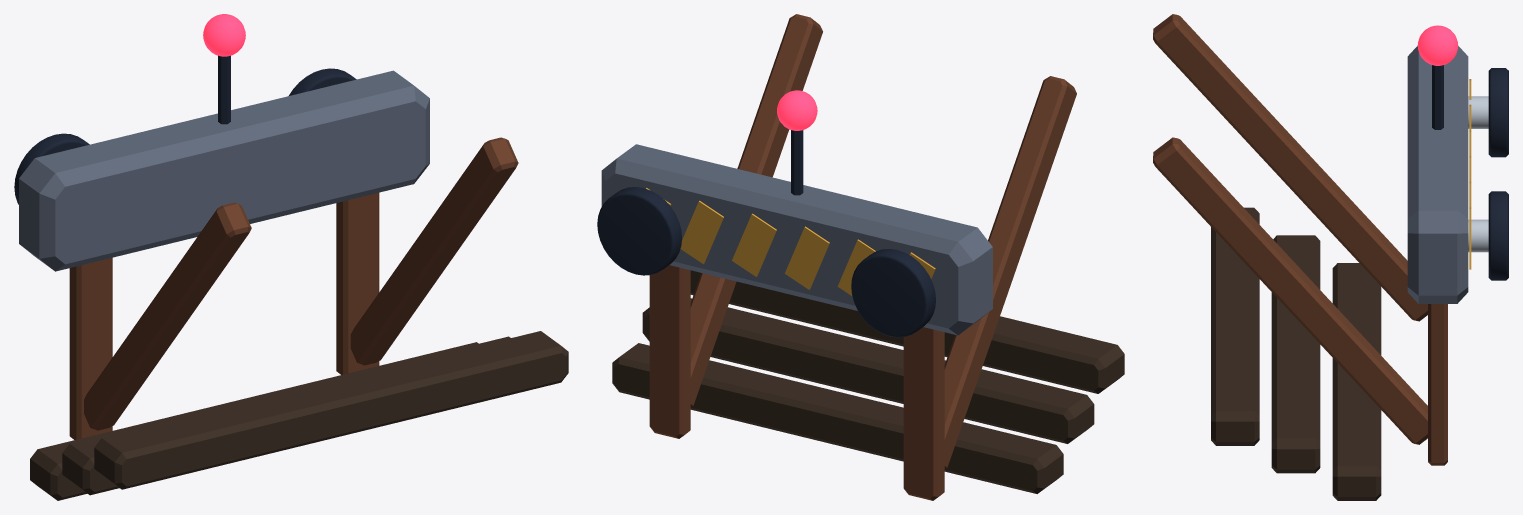
File: switchyard_dress_buffer.glb
3 views of the same model, side by side, from view 1: azimuth 30°, elevation 25°; view 2: azimuth 150°, elevation 25°; view 3: azimuth 270°, elevation 25° (orthographic). The views are drawn at different scales.
Parts seen in each view (by area): view 1: buf_beam, buf_crib2, buf_strut1, buf_strut-1, buf_post-1, buf_post1, buf_crib1, buf_crib0, buf_lamp, buf_head-1, buf_head1, buf_lamp_post; view 2: buf_beam, buf_crib0, buf_crib1, buf_strut-1, buf_crib2, buf_strut1, buf_post-1, buf_post1, buf_head1, buf_head-1, buf_hazard, buf_lamp (+1 smaller); view 3: buf_strut1, buf_beam, buf_strut-1, buf_crib2, buf_crib1, buf_crib0, buf_post1, buf_head-1, buf_head1, buf_lamp, buf_lamp_post, buf_shank1 (+2 smaller).
Part boxes in pixels (left/top/right/bottom): buf_beam: left=19, top=70, right=429, bottom=271; buf_crib2: left=94, top=331, right=568, bottom=489; buf_strut1: left=350, top=137, right=518, bottom=365; buf_strut-1: left=84, top=202, right=251, bottom=430; buf_post-1: left=69, top=257, right=112, bottom=439; buf_post1: left=336, top=192, right=379, bottom=374; buf_crib1: left=62, top=336, right=510, bottom=495; buf_crib0: left=30, top=342, right=478, bottom=500; buf_lamp: left=203, top=14, right=245, bottom=56; buf_head-1: left=14, top=133, right=89, bottom=204; buf_head1: left=289, top=68, right=356, bottom=95; buf_lamp_post: left=218, top=55, right=230, bottom=124; buf_beam: left=601, top=144, right=992, bottom=335; buf_crib0: left=612, top=343, right=1063, bottom=493; buf_crib1: left=642, top=298, right=1094, bottom=443; buf_strut-1: left=944, top=76, right=1076, bottom=469; buf_crib2: left=690, top=270, right=1124, bottom=393; buf_strut1: left=690, top=14, right=822, bottom=407; buf_post-1: left=903, top=327, right=944, bottom=500; buf_post1: left=649, top=265, right=690, bottom=438; buf_head1: left=597, top=187, right=681, bottom=275; buf_head-1: left=851, top=249, right=935, bottom=337; buf_hazard: left=646, top=188, right=935, bottom=295; buf_lamp: left=777, top=90, right=817, bottom=130; buf_strut1: left=1153, top=137, right=1427, bottom=444; buf_beam: left=1407, top=46, right=1468, bottom=303; buf_strut-1: left=1153, top=14, right=1427, bottom=321; buf_crib2: left=1211, top=207, right=1259, bottom=445; buf_crib1: left=1271, top=235, right=1320, bottom=473; buf_crib0: left=1332, top=263, right=1381, bottom=500; buf_post1: left=1428, top=304, right=1447, bottom=465; buf_head-1: left=1488, top=68, right=1508, bottom=157; buf_head1: left=1488, top=191, right=1508, bottom=280; buf_lamp: left=1417, top=25, right=1458, bottom=65; buf_lamp_post: left=1432, top=65, right=1443, bottom=129; buf_shank1: left=1468, top=219, right=1488, bottom=252.
Bounding box in the file's own units: 2.45 × 2.03 × 1.76.
